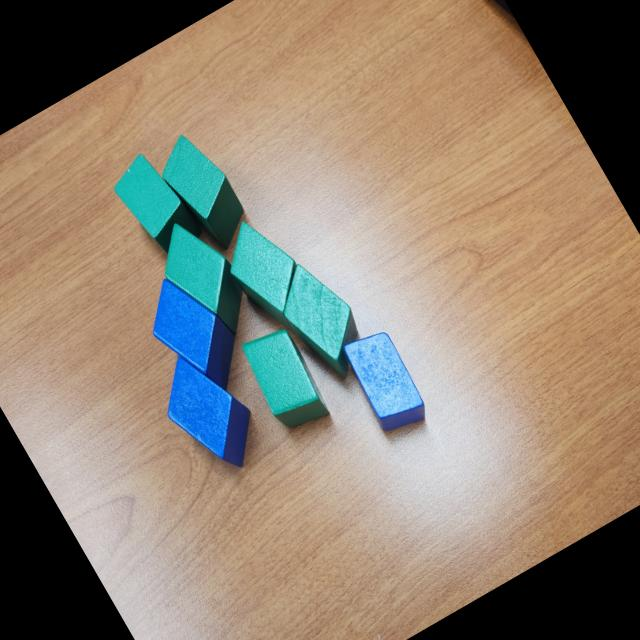blue: (145, 338, 273, 486), (133, 262, 257, 408), (337, 322, 435, 439)
green: (144, 207, 263, 350), (264, 250, 382, 391), (210, 208, 328, 348), (148, 124, 258, 259), (234, 320, 336, 438), (104, 145, 204, 262)
